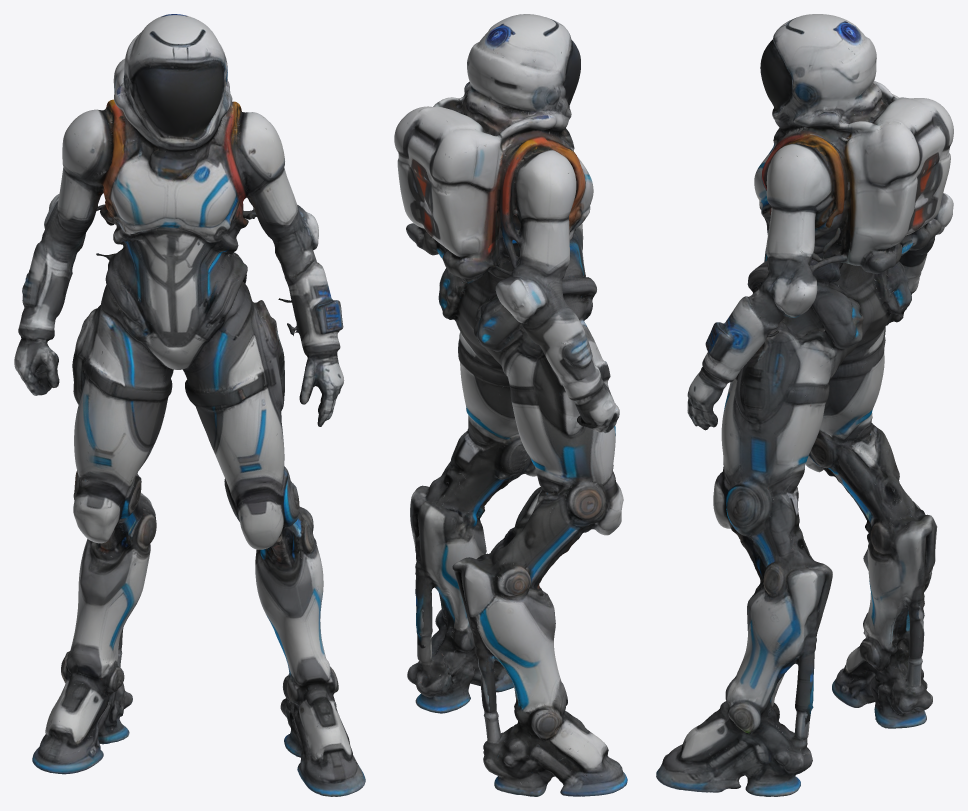
Rendered from astronaut.glb.
3 views of the same model, side by side, from view 1: azimuth 30°, elevation 25°; view 2: azimuth 150°, elevation 25°; view 3: azimuth 270°, elevation 25° (orthographic). The views are drawn at different scales.
Size of the model in its own units: 0.7301 by 2 by 0.7531.
1 material, 1 textured.
